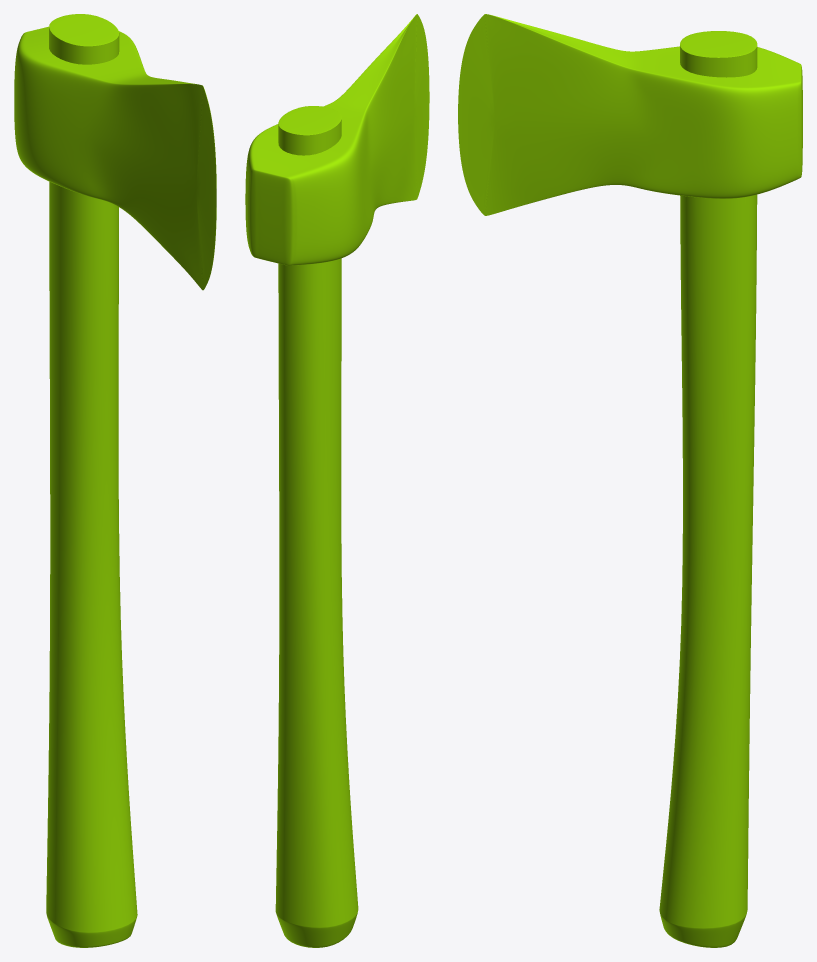
The picture shows the model from 3 angles, left to right: view 1: azimuth 30°, elevation 25°; view 2: azimuth 150°, elevation 25°; view 3: azimuth 270°, elevation 25°; orthographic projection. The views are drawn at different scales.
Parts seen in each view (by area): view 1: Cable, Iron; view 2: Cable, Iron; view 3: Cable, Iron.
Part boxes in pixels (x1=…): Cable: x1=46, y1=14, x2=137, y2=947; Iron: x1=14, y1=26, x2=216, y2=290; Cable: x1=275, y1=106, x2=358, y2=947; Iron: x1=245, y1=14, x2=429, y2=265; Cable: x1=659, y1=31, x2=757, y2=947; Iron: x1=458, y1=14, x2=802, y2=215.
Size of the model in its own units: 1 by 8.25 by 2.79.
